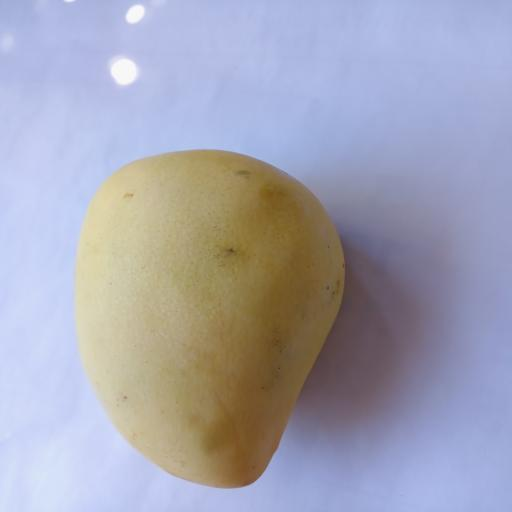mango-ripe: (54, 127, 346, 503)
